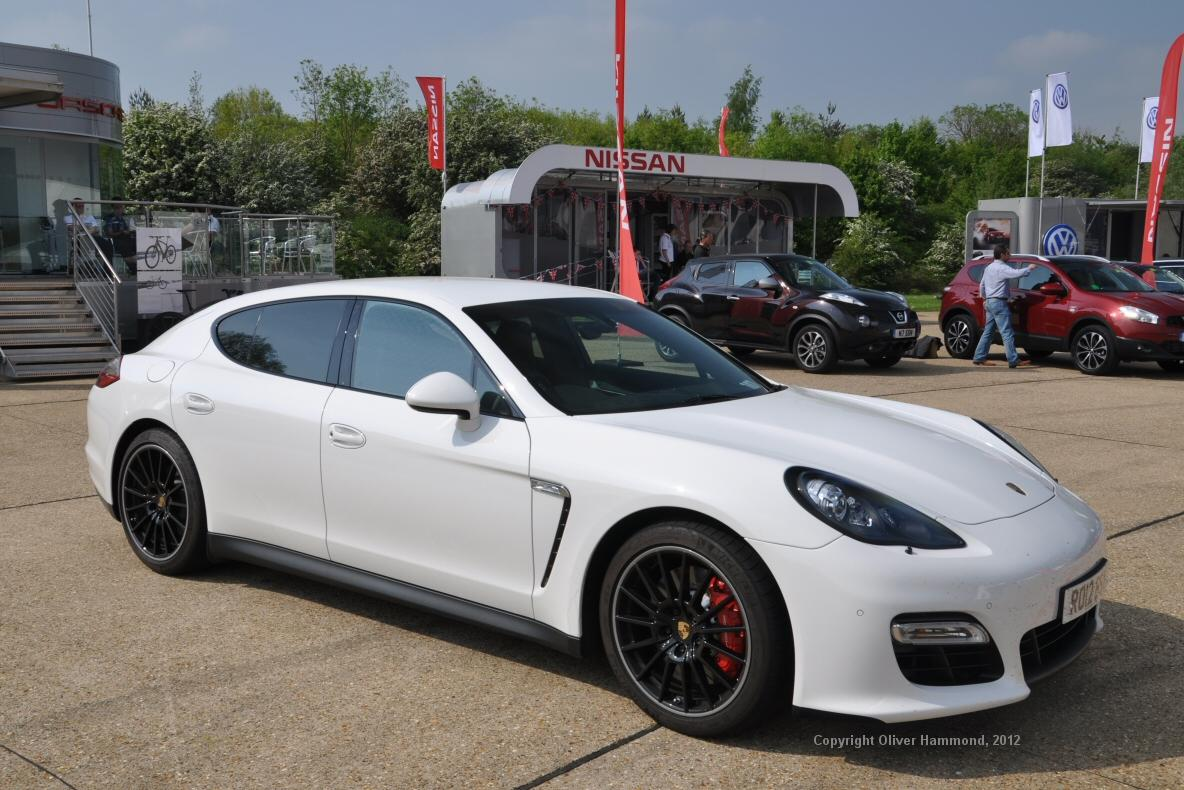Car: (68, 233, 1131, 755), (644, 223, 935, 399), (931, 235, 1184, 388)
